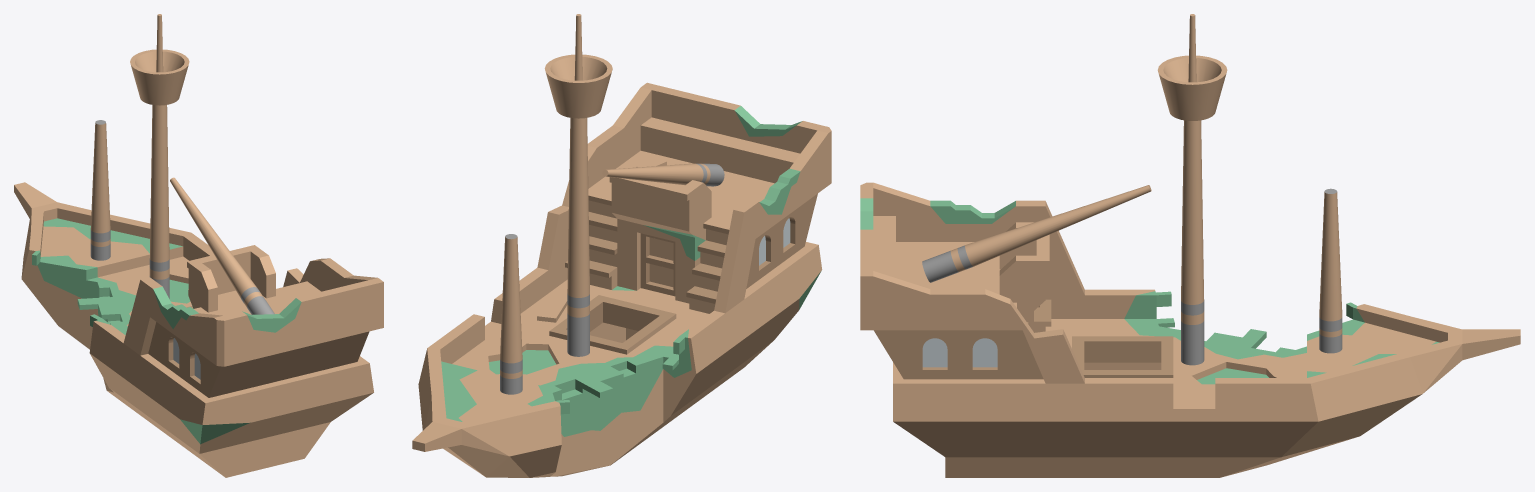
Rendered from ship_wreck.glb.
The picture shows the model from 3 angles, left to right: view 1: azimuth 30°, elevation 25°; view 2: azimuth 150°, elevation 25°; view 3: azimuth 270°, elevation 25°; orthographic projection. The views are drawn at different scales.
Parts seen in each view (by area): view 1: ship_wreck_8angles; view 2: ship_wreck_8angles; view 3: ship_wreck_8angles.
Boxes of the visible parts, <box> form: ship_wreck_8angles: <box>14,14,383,477</box>; ship_wreck_8angles: <box>412,14,831,477</box>; ship_wreck_8angles: <box>860,14,1520,477</box>.
Size of the model in its own units: 2.85 by 5.92 by 8.05.
